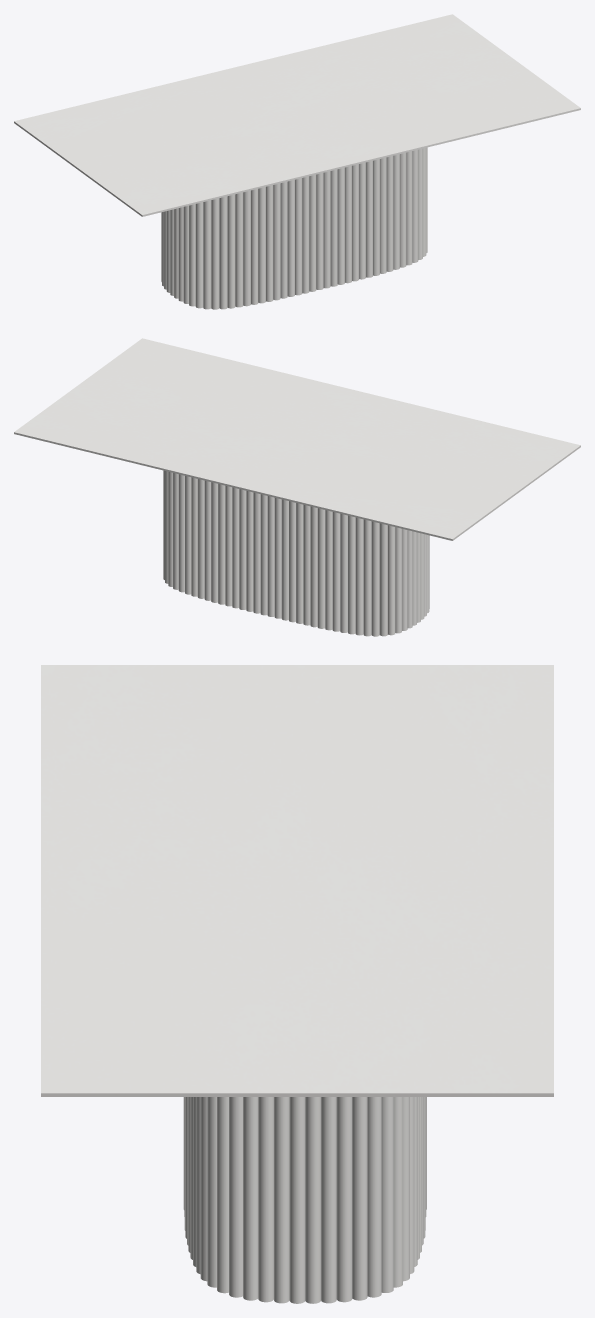
The model's file is purewhite_recta_facet_newtable.glb.
3 renders of one model, top to bottom at view 1: azimuth 30°, elevation 25°; view 2: azimuth 150°, elevation 25°; view 3: azimuth 270°, elevation 25°, orthographic. The views are drawn at different scales.
Parts seen in each view (by area): view 1: facet_recta, newtable; view 2: facet_recta, newtable; view 3: facet_recta, newtable.
Part boxes in pixels (box(x1,y1,x2,y2)): facet_recta: box(14, 14, 580, 216); newtable: box(161, 147, 427, 309); facet_recta: box(14, 338, 580, 540); newtable: box(163, 470, 429, 636); facet_recta: box(41, 665, 553, 1096); newtable: box(183, 1097, 426, 1303).
Size of the model in its own units: 7.5 by 2.5 by 3.8.
Materials: 2 (2 with a texture image).
